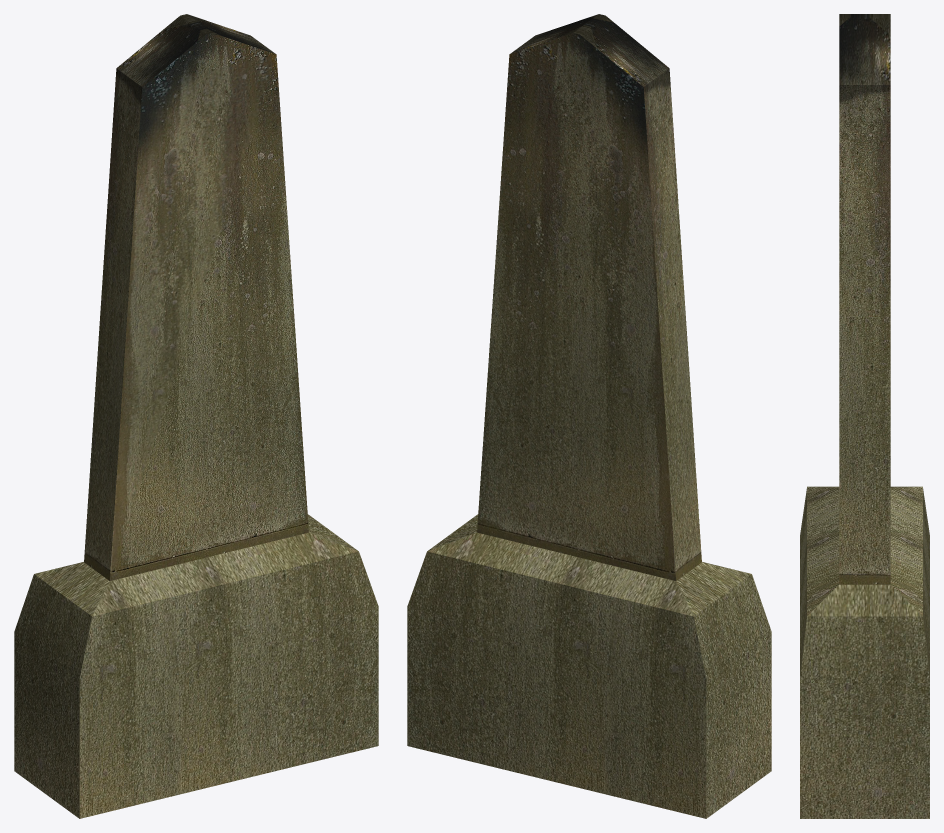
The model's file is Headstone_05.fbx.
3 views of the same model, side by side, from view 1: azimuth 30°, elevation 25°; view 2: azimuth 150°, elevation 25°; view 3: azimuth 270°, elevation 25° (orthographic).
Visible parts, largest first — view 1: headstone5; view 2: headstone5; view 3: headstone5.
Part boxes in pixels (x1,y1,x2,y2): headstone5: [14, 14, 378, 818]; headstone5: [407, 14, 771, 818]; headstone5: [800, 14, 929, 818].
Bounding box in the file's own units: 1.12 × 2.62 × 0.4219.
